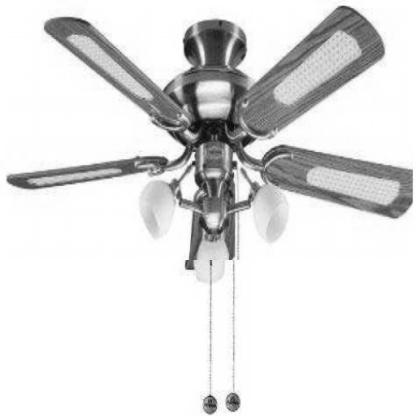ceiling-fan: (5, 5, 413, 260)
